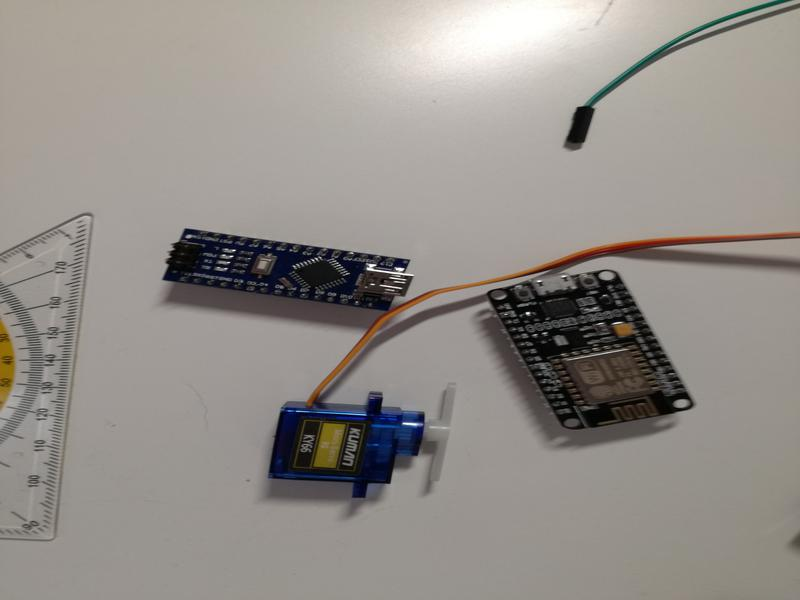Arduino_Nano: (158, 224, 418, 321)
ESP8266: (488, 266, 702, 434)
